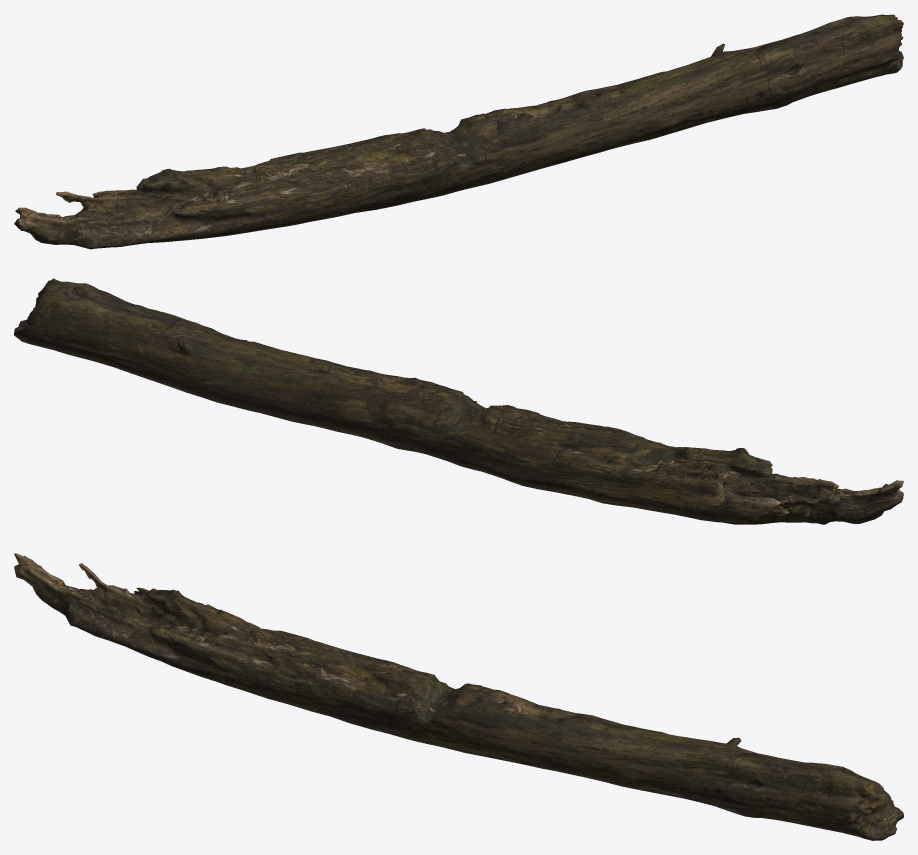
Rendered from dead_tree_trunk.glb.
3 renders of one model, top to bottom at view 1: azimuth 30°, elevation 25°; view 2: azimuth 150°, elevation 25°; view 3: azimuth 330°, elevation 25°, orthographic.
Parts seen in each view (by area): view 1: dead_tree_trunk; view 2: dead_tree_trunk; view 3: dead_tree_trunk.
Boxes of the visible parts, <box> form: dead_tree_trunk: <box>14,14,903,249</box>; dead_tree_trunk: <box>14,278,903,524</box>; dead_tree_trunk: <box>14,553,903,840</box>.
Bounding box in the file's own units: 3.05 × 0.289 × 0.2771.
1 material, 1 textured.
